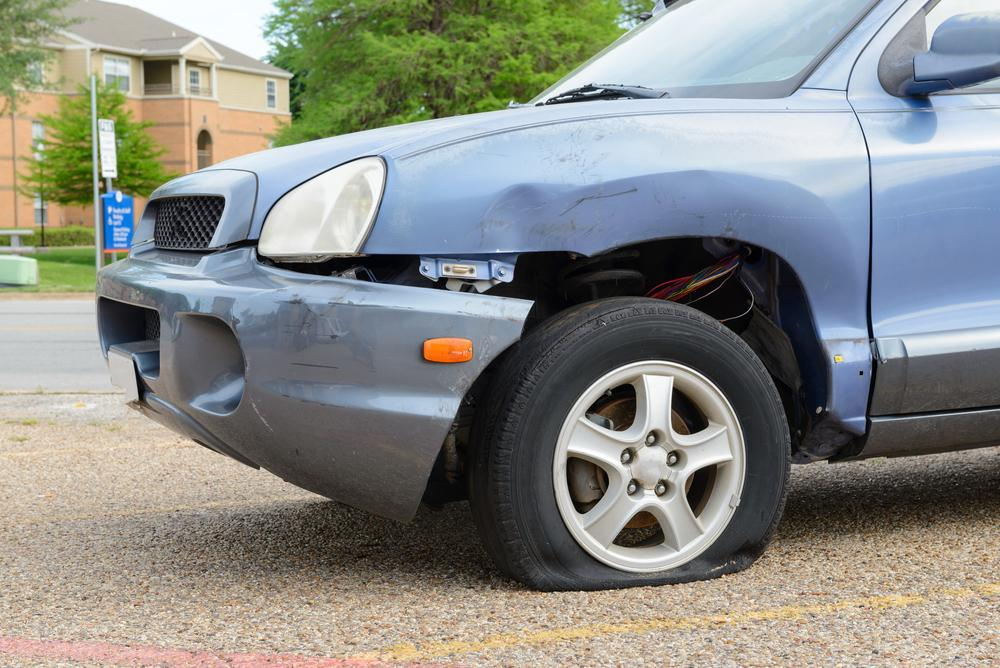dent: (488, 186, 542, 253)
scratch: (280, 282, 371, 416), (551, 118, 633, 246)
tire flat: (470, 299, 791, 594)
